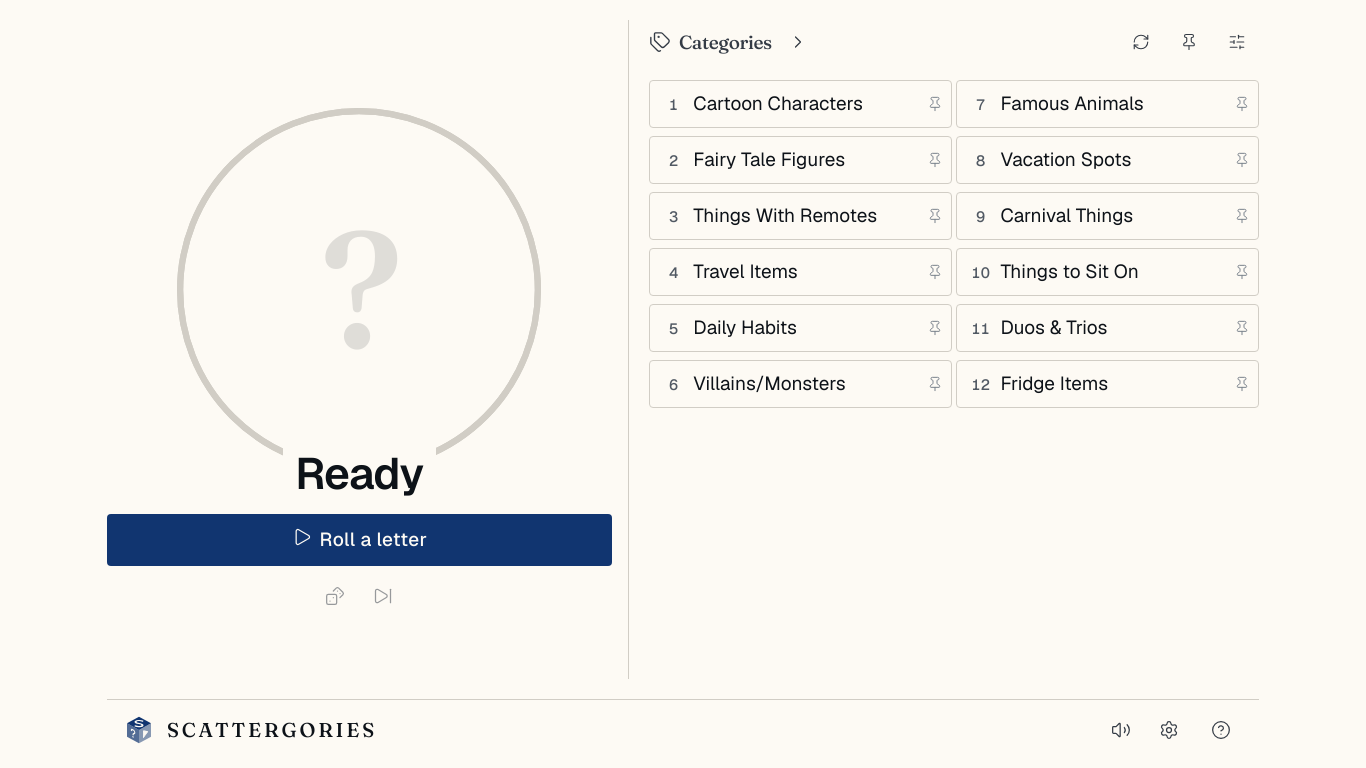
Test: lists each letter's chance in the rules as a table
This screenshot has width=1366, height=768.
Expected: the heading "Scattergories" is shown, top-left (167, 720), bottom-right (377, 740)
Click the button named "How to play".
click(1221, 730)  # box top-left (1199, 708), bottom-right (1243, 752)
(page scrolled)
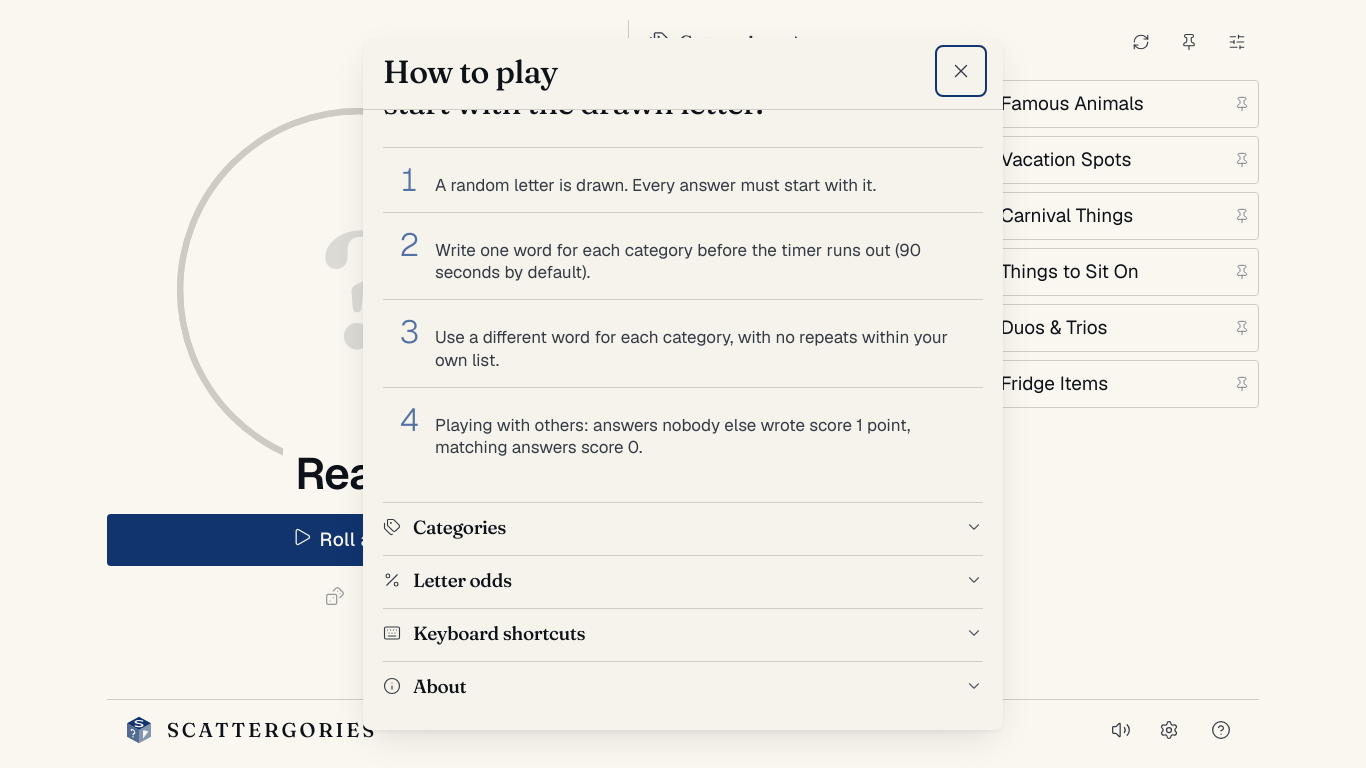
Click the heading "Letter odds".
click(462, 580)  # box top-left (383, 568), bottom-right (983, 592)
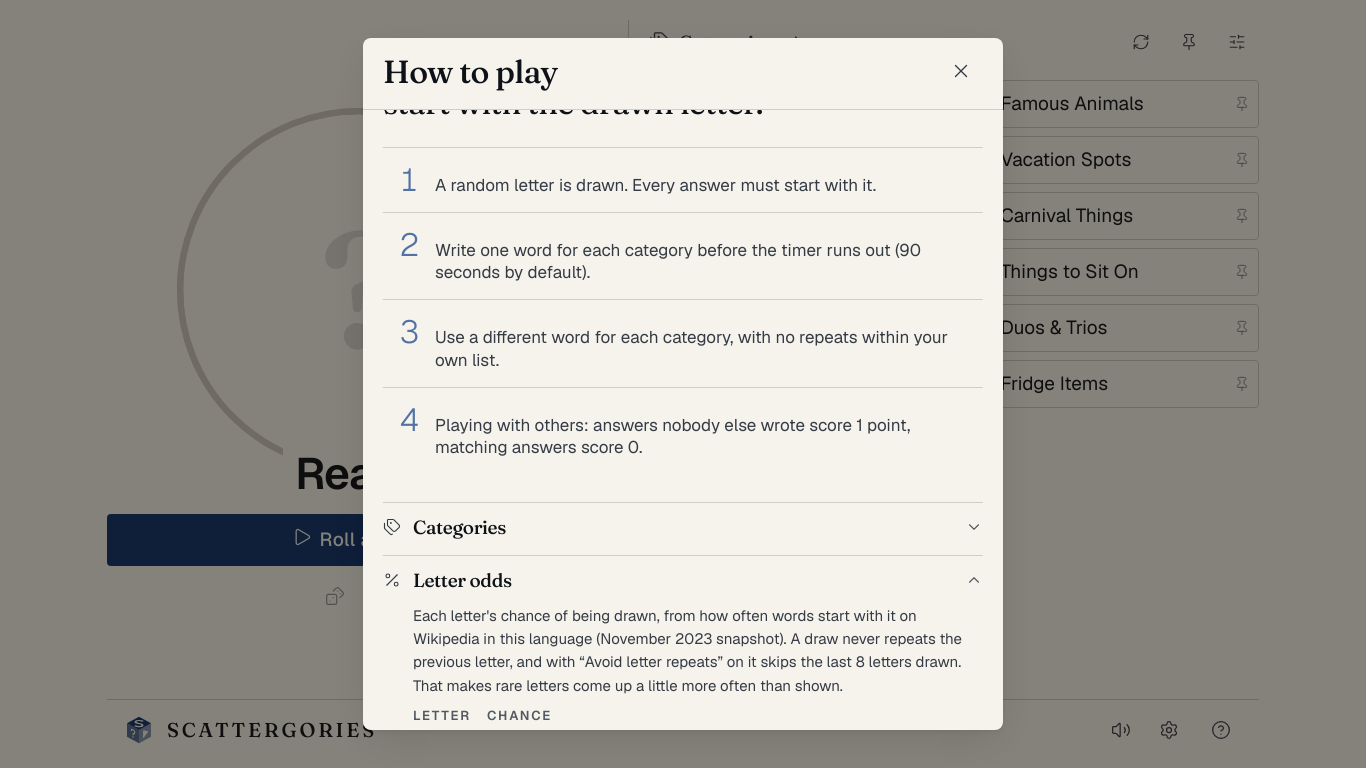
Now the text "November 2023 snapshot" shows "with “Avoid letter repeats” on it skips the last 8 letters drawn", box top-left (413, 606), bottom-right (962, 695)
Now the text "November 2023 snapshot" shows "rare letters come up a little more often than shown", box top-left (413, 606), bottom-right (962, 695)
